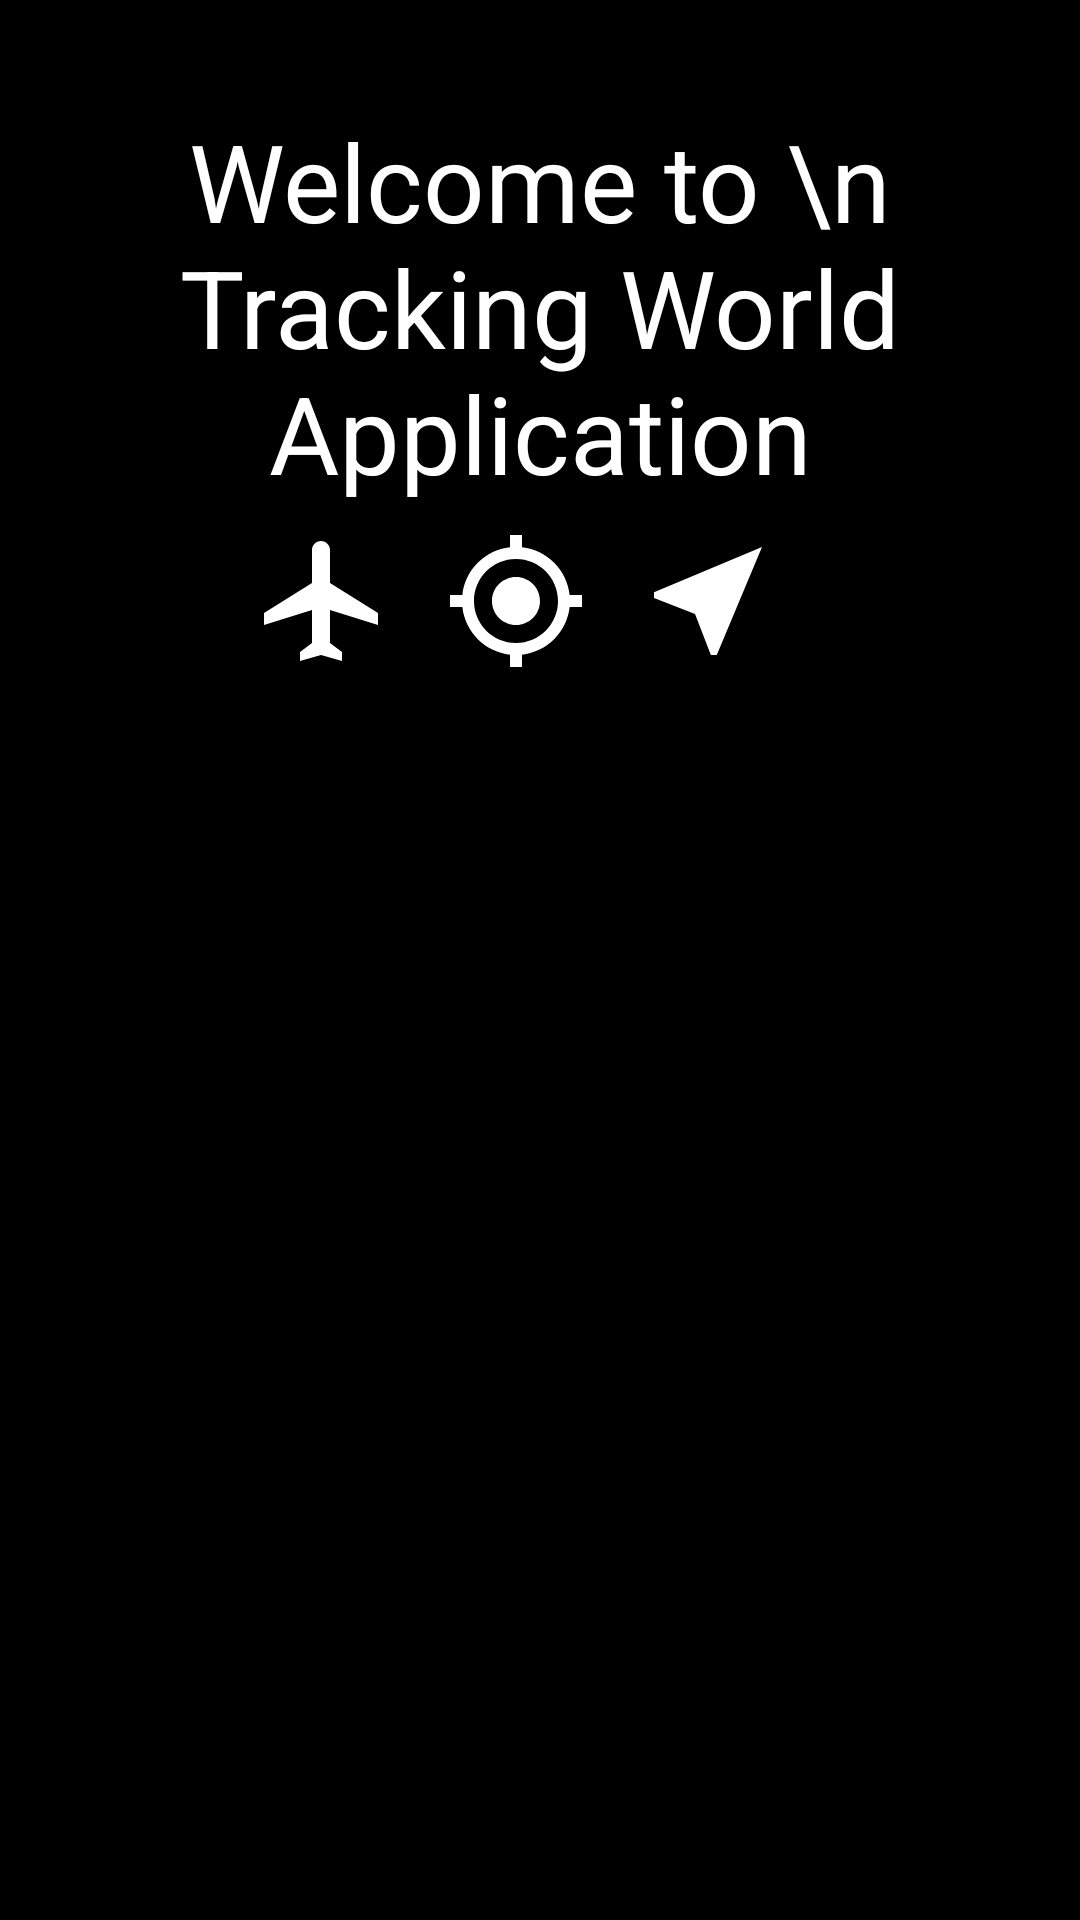

Named icons in this screenshot (1080 × 1920) and their centers, (x=x, y=y):
flight: (x=321, y=601)
location: (x=516, y=601)
near me: (x=708, y=601)
